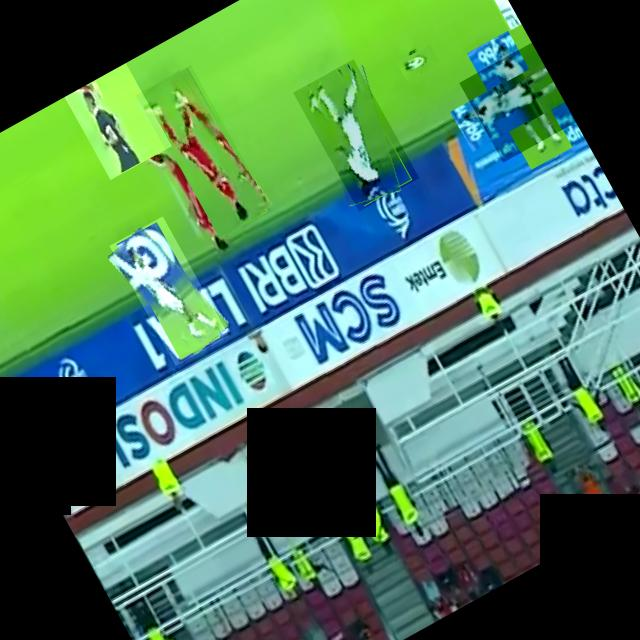ball: (396, 42, 438, 82)
referee: (64, 62, 170, 180)
soccer-player: (134, 64, 270, 241), (292, 59, 418, 211), (108, 216, 228, 365), (458, 42, 576, 162), (439, 0, 521, 30)
